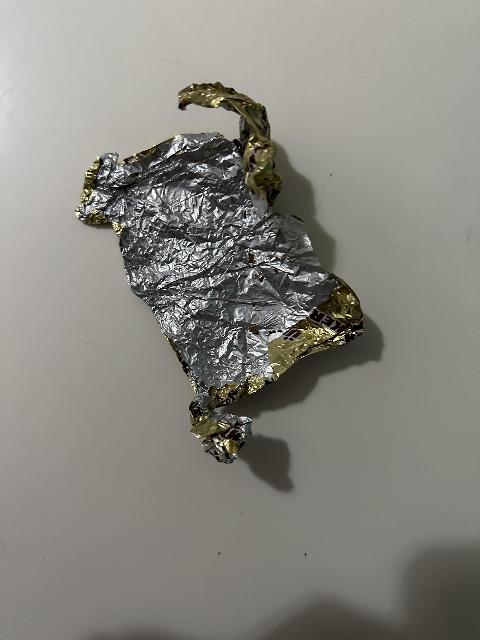Plastik: (73, 78, 387, 459)
